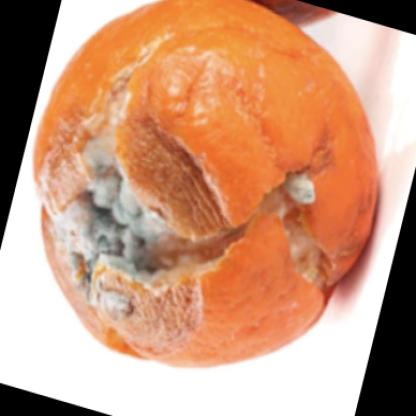rotten: (32, 1, 382, 372)
